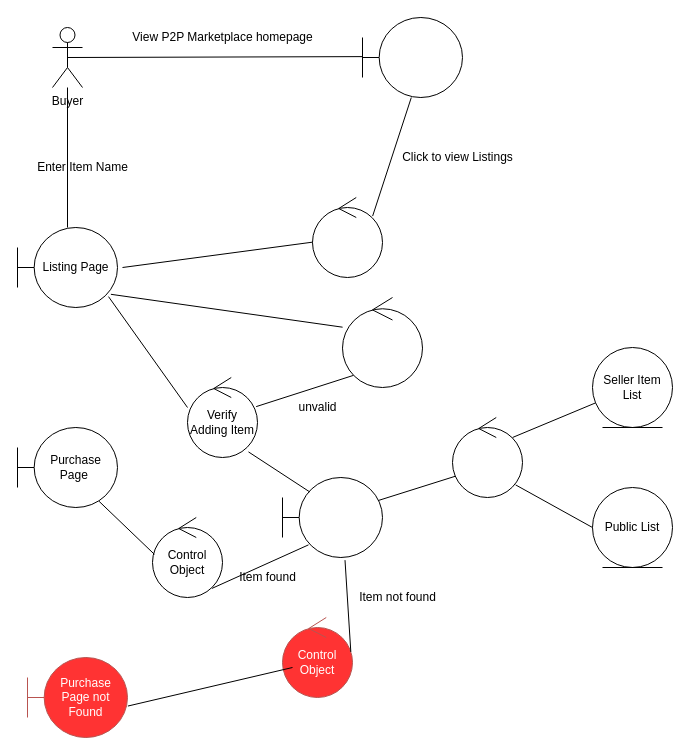
Some shapes in this 690 by 755 pixel diagram are drawn without their labels. Here are the shapes that lost their labels. From the top down, the centre of each, then its label:
At [412,57]: "P2P Marketplace".
At [347,237]: "Display".
At [382,342]: "Notify Unverification".
At [487,457]: "Retrieve List Deatil".
At [332,517]: "Cart".
